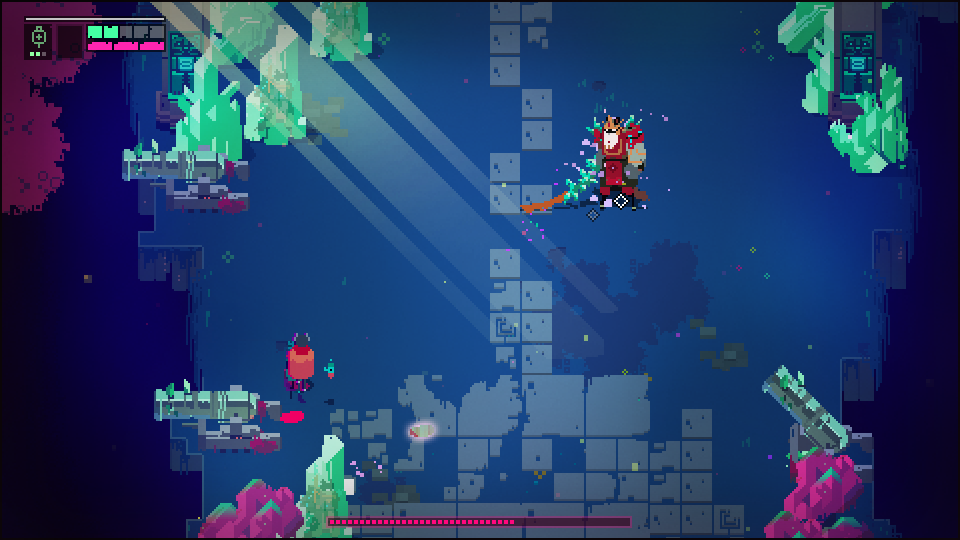hanged_man: (558, 111, 652, 215)
player: (288, 332, 317, 390)
